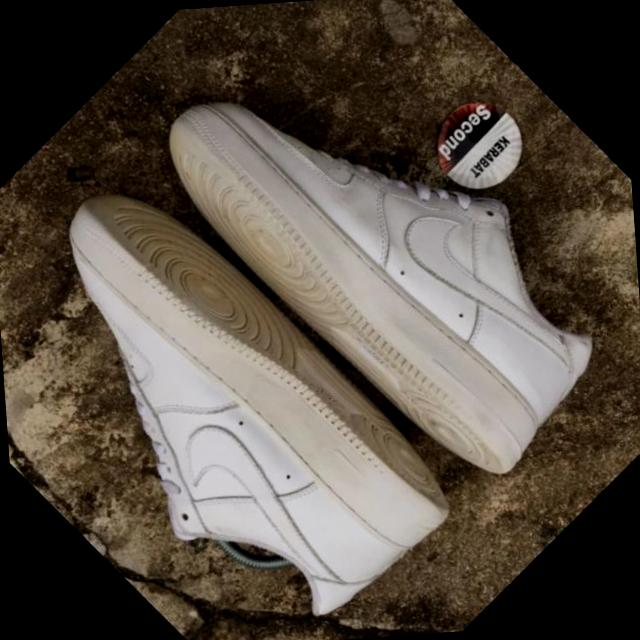nike_original_airforce: (118, 0, 640, 522), (0, 133, 485, 640)
